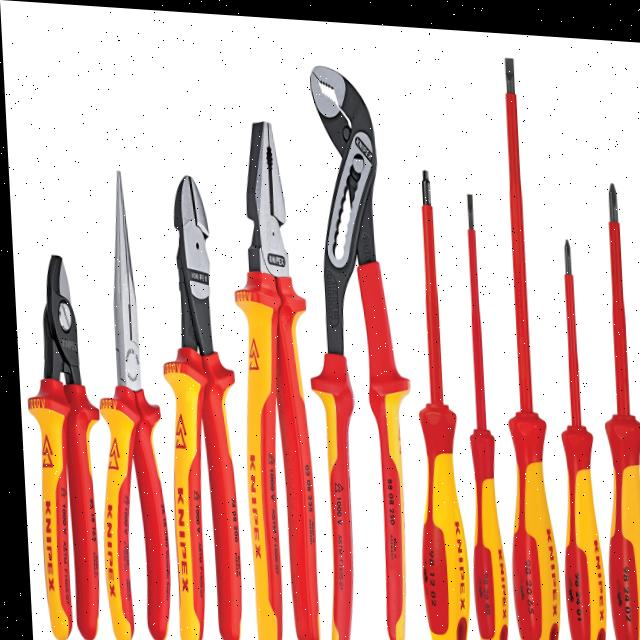Screwdriver: (505, 52, 554, 640), (416, 166, 464, 640), (601, 176, 640, 640), (558, 233, 600, 640), (465, 188, 502, 640)
